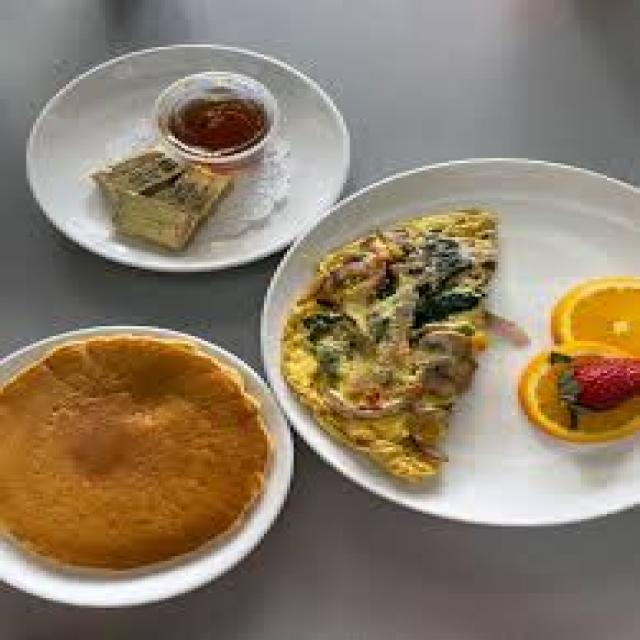Omelette: (284, 200, 492, 484)
Pancakes: (0, 326, 274, 576)
